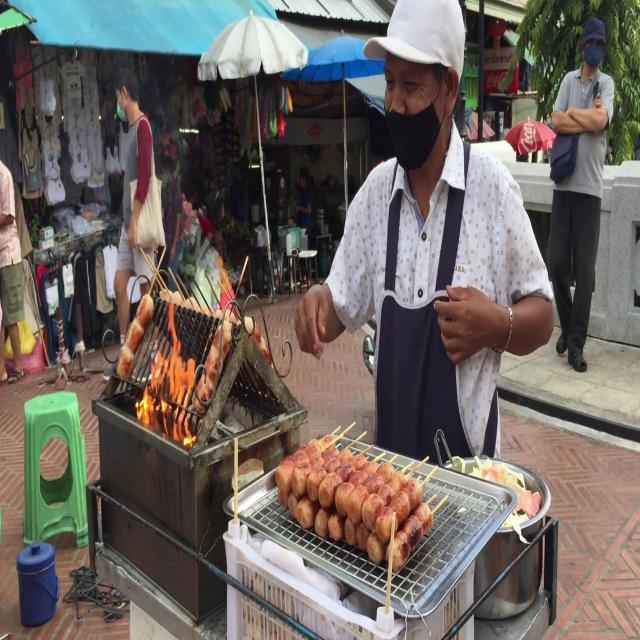Fire: (131, 296, 217, 450)
